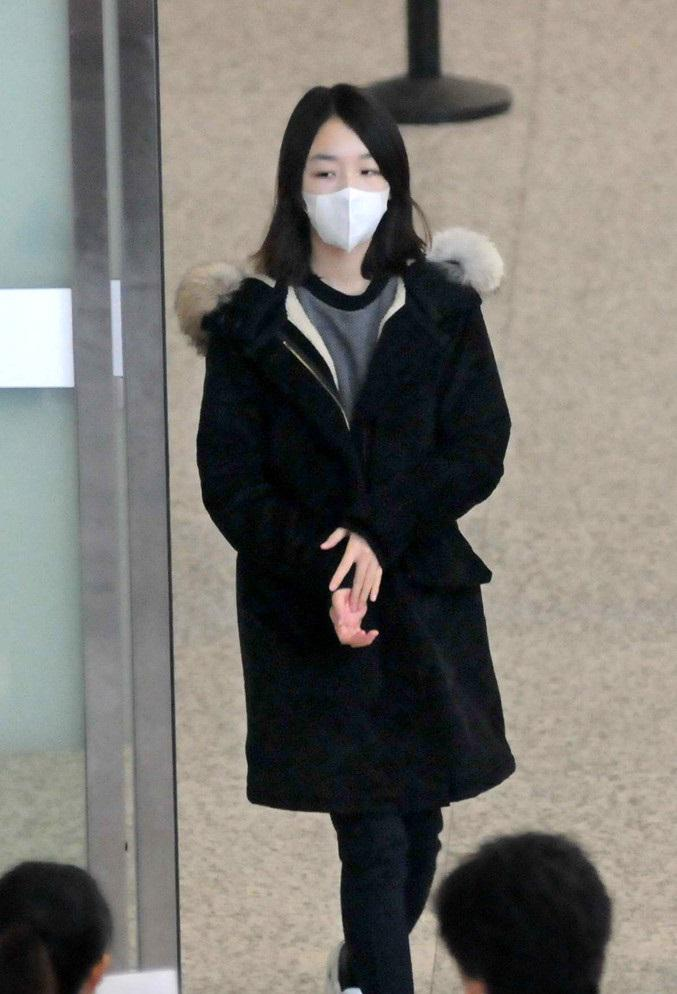OK: (298, 144, 399, 245)
